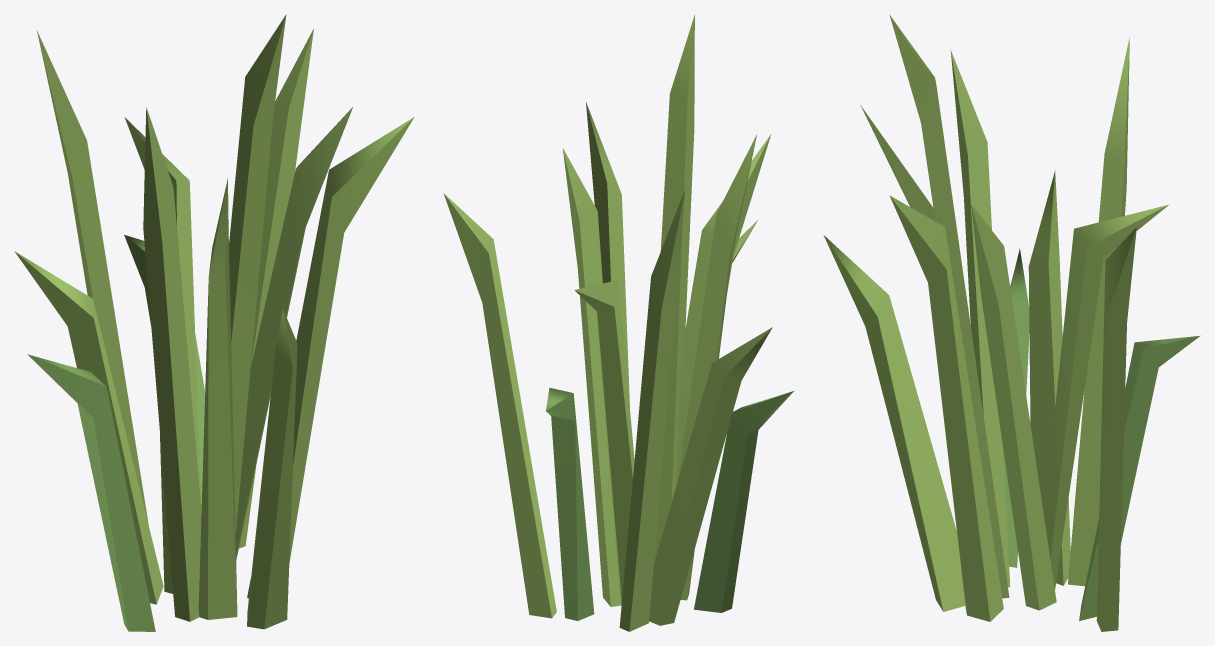
Rendered from SM_Env_RicePlant_01.fbx.
3 renders of one model, left to right at view 1: azimuth 30°, elevation 25°; view 2: azimuth 150°, elevation 25°; view 3: azimuth 270°, elevation 25°, orthographic. The views are drawn at different scales.
Parts seen in each view (by area): view 1: SM_Env_RicePlant_01; view 2: SM_Env_RicePlant_01; view 3: SM_Env_RicePlant_01.
Part boxes in pixels (box(x1,y1,x2,y2)): SM_Env_RicePlant_01: box(14, 14, 414, 631); SM_Env_RicePlant_01: box(443, 14, 793, 631); SM_Env_RicePlant_01: box(823, 14, 1200, 631).
Size of the model in its own units: 0.00843 by 0.0146 by 0.00854.
Materials: 1 (1 with a texture image).
